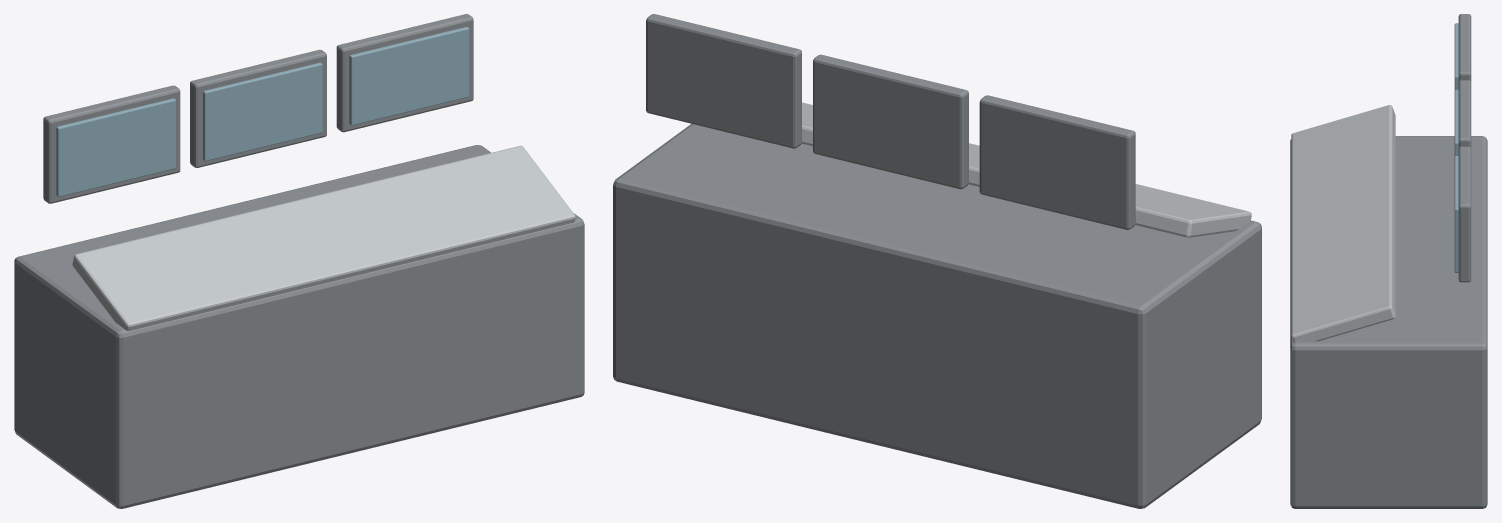
The model's file is P_control_console.fbx.
3 renders of one model, left to right at view 1: azimuth 30°, elevation 25°; view 2: azimuth 150°, elevation 25°; view 3: azimuth 270°, elevation 25°, orthographic. The views are drawn at different scales.
Visible parts, largest first — view 1: P_control_console; view 2: P_control_console; view 3: P_control_console.
Boxes of the visible parts, x1,y1,x2,y2 form: P_control_console: (14,14,584,508); P_control_console: (613,14,1261,508); P_control_console: (1290,14,1487,508).
Size of the model in its own units: 1.98 by 1.29 by 0.78.
